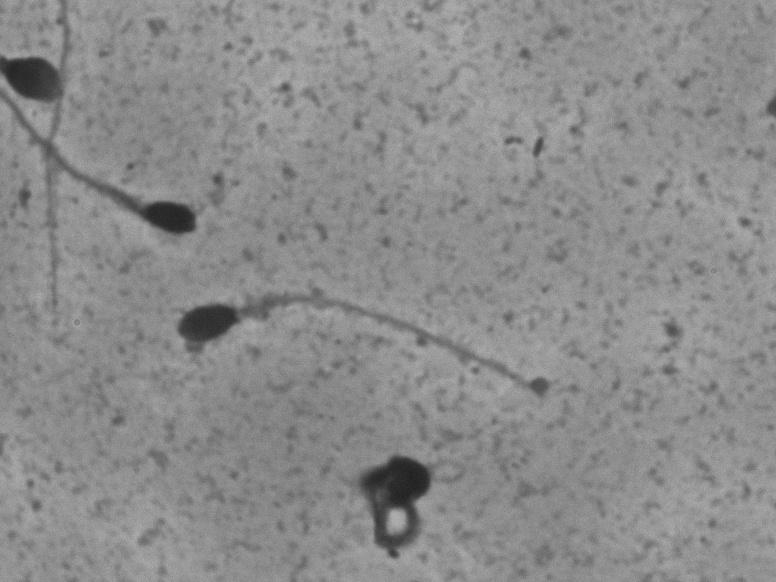Abnormal: (168, 248, 573, 458), (20, 127, 243, 267)
